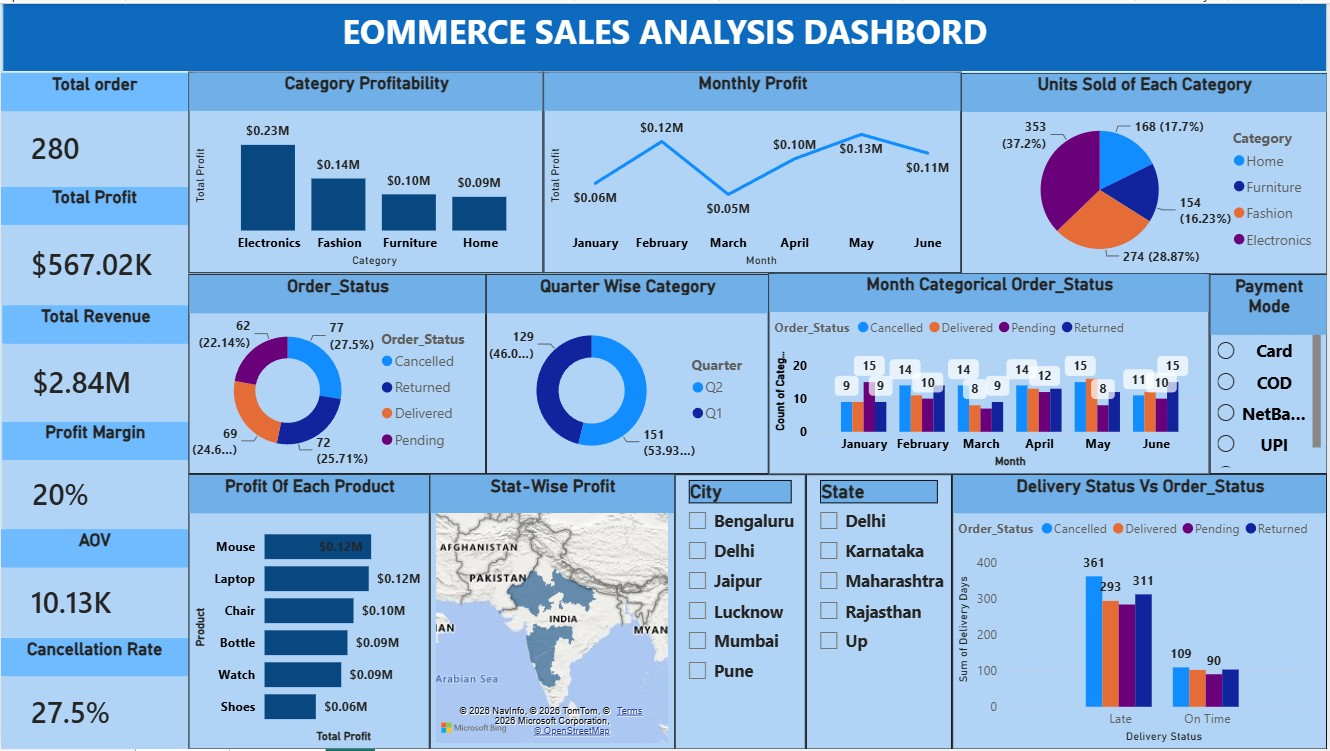

Layout of this report page (visuals, bound fields, positions):
{"tool":"powerbi","page":{"name":"Page 1","canvas":[1280,720],"ordinal":0},"visuals":[{"type":"textbox","box":[1.2,0,1278.8,66.4],"z":0},{"type":"cardVisual","title":"Total order","fields":{"Data":["Dax Measure.Total Orders"]},"box":[0,67.6,181,109.8],"z":1000},{"type":"cardVisual","title":"Total Profit","fields":{"Data":["Dax Measure.Total Profit"]},"box":[0,177.3,181,114.6],"z":2000},{"type":"cardVisual","title":"Profit Margin","fields":{"Data":["Dax Measure.Profit Margin"]},"box":[1.2,404.2,179.8,103.8],"z":3000},{"type":"cardVisual","title":"AOV","fields":{"Data":["Dax Measure.AOV"]},"box":[0,507.9,181,105],"z":4000},{"type":"cardVisual","title":"Total Revenue","fields":{"Data":["Dax Measure.Total Revenue"]},"box":[1.2,292,181,112.2],"z":5000},{"type":"cardVisual","title":"Cancellation Rate","fields":{"Data":["Dax Measure.Cancellation Rate"]},"box":[0,612.9,181,107.4],"z":6000},{"type":"clusteredColumnChart","title":"Category Profitability","fields":{"Y":["Dax Measure.Total Profit"],"Category":["ecommerce orders.Category"]},"box":[181,66.4,342.6,194.2],"z":7000},{"type":"filledMap","title":"Stat-Wise Profit","fields":{"Category":["ecommerce orders.State"]},"box":[413.8,454.8,236.5,265.4],"z":8000},{"type":"donutChart","title":"Order_Status","fields":{"Category":["ecommerce orders.Order_Status"],"Y":["Dax Measure.Total Orders"]},"box":[181,261.8,287.1,193],"z":9000},{"type":"slicer","fields":{"Values":["ecommerce orders.State"]},"box":[776.9,454.8,141.2,265.4],"z":10000},{"type":"clusteredBarChart","title":"Profit Of Each Product","fields":{"Category":["ecommerce orders.Product"],"Y":["Dax Measure.Total Profit"]},"box":[181,454.8,232.8,265.4],"z":11000},{"type":"pieChart","title":"Units Sold of Each Category","fields":{"Category":["ecommerce orders.Category"],"Y":["Dax Measure.Units Sold"]},"box":[926.5,67.6,353.5,194.2],"z":12000},{"type":"listSlicer","title":"Payment Mode","fields":{"Values":["ecommerce orders.Payment_Mode"]},"box":[1166.6,261.8,113.4,193],"z":13000},{"type":"slicer","fields":{"Values":["ecommerce orders.City"]},"box":[650.3,454.8,126.7,265.4],"z":14000},{"type":"lineChart","title":"Monthly Profit","fields":{"Y":["Dax Measure.Total Profit"],"Category":["ecommerce orders.Order_Date.Variation.Date Hierarchy.Month"]},"box":[523.6,66.4,403,194.2],"z":15000},{"type":"donutChart","title":"Quarter Wise Category","fields":{"Y":["CountNonNull(ecommerce orders.Category)"],"Category":["ecommerce orders.Quarter"]},"box":[468.1,261.8,272.7,193],"z":16000},{"type":"lineClusteredColumnComboChart","title":"Month Categorical Order_Status","fields":{"Category":["ecommerce orders.Order_Date.Variation.Date Hierarchy.Month"],"Y":["CountNonNull(ecommerce orders.Category)"],"Series":["ecommerce orders.Order_Status"]},"box":[740.8,260.6,425.9,194.2],"z":17000},{"type":"clusteredColumnChart","title":"Delivery Status Vs Order_Status","fields":{"Category":["ecommerce orders.Delivery Status"],"Y":["Sum(ecommerce orders.Delivery Days)"],"Series":["ecommerce orders.Order_Status"]},"box":[918.1,454.8,361.9,265.4],"z":18000}]}

Visuals, with their boxes in screenshot pixels (x1, y1, x2, y2), scaled from the page's 1280x720 canvas onto the 1330x751 screenshot:
textbox: (1,0,1329,69)
"Total order" cardVisual: (0,71,188,185)
"Total Profit" cardVisual: (0,185,188,304)
"Profit Margin" cardVisual: (1,422,188,530)
"AOV" cardVisual: (0,530,188,639)
"Total Revenue" cardVisual: (1,305,189,422)
"Cancellation Rate" cardVisual: (0,639,188,750)
"Category Profitability" clusteredColumnChart: (188,69,544,272)
"Stat-Wise Profit" filledMap: (430,474,676,750)
"Order_Status" donutChart: (188,273,486,474)
slicer - ecommerce orders.State: (807,474,954,750)
"Profit Of Each Product" clusteredBarChart: (188,474,430,750)
"Units Sold of Each Category" pieChart: (963,71,1329,273)
"Payment Mode" listSlicer: (1212,273,1329,474)
slicer - ecommerce orders.City: (676,474,807,750)
"Monthly Profit" lineChart: (544,69,963,272)
"Quarter Wise Category" donutChart: (486,273,770,474)
"Month Categorical Order_Status" lineClusteredColumnComboChart: (770,272,1212,474)
"Delivery Status Vs Order_Status" clusteredColumnChart: (954,474,1329,750)
